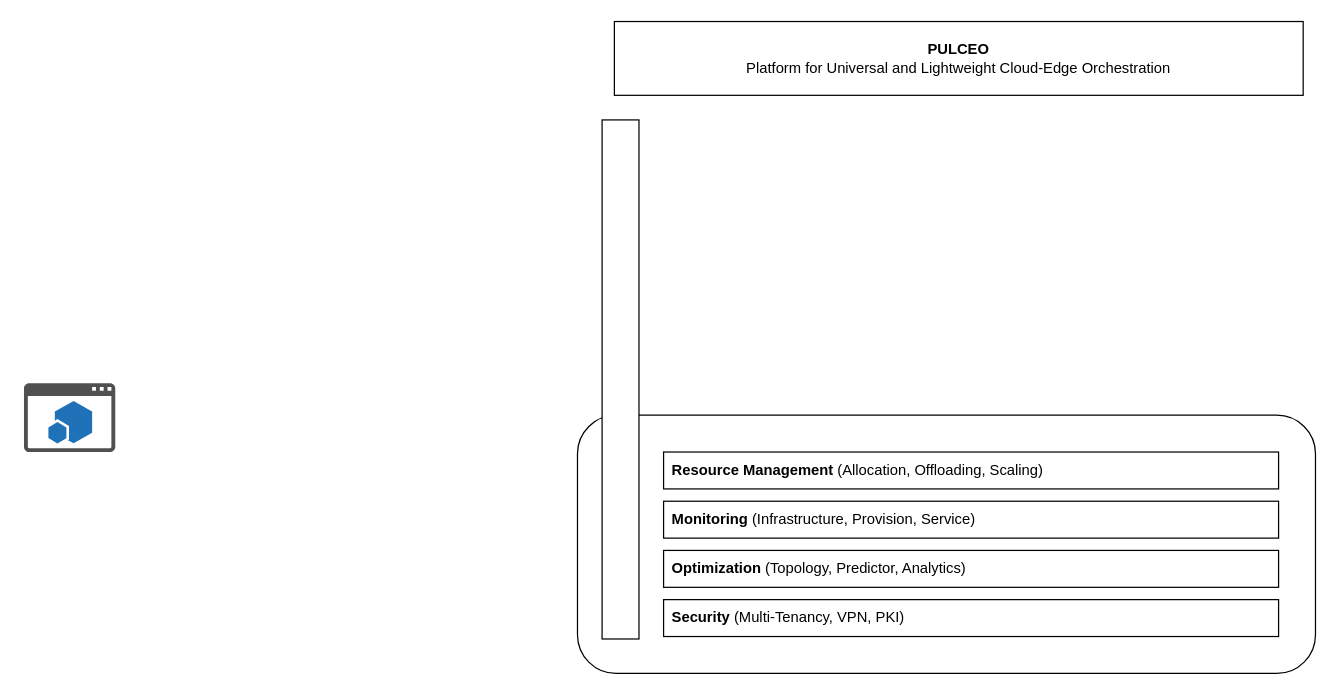
The diagram is 1337 pixels wide and 695 high, and some of its shapes have lost their labels. Each missing label, with the centre of its shape:
API: [620,379]
Latency-aware Application: [69,417]
